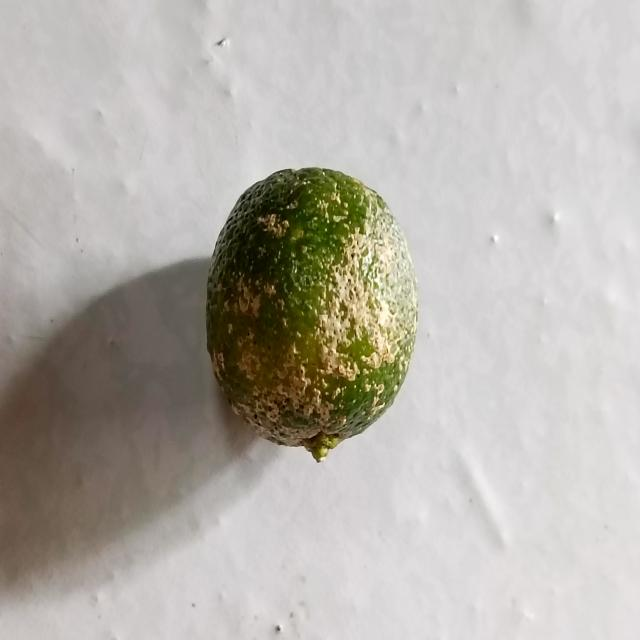scab: (201, 155, 422, 461)
